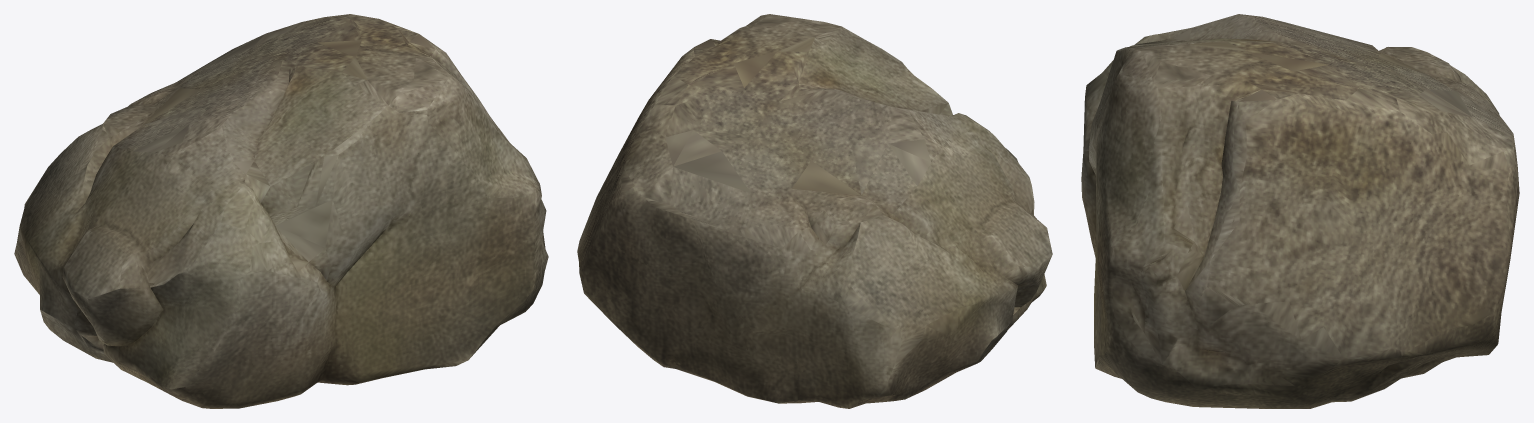
3 views of the same model, side by side, from view 1: azimuth 30°, elevation 25°; view 2: azimuth 150°, elevation 25°; view 3: azimuth 270°, elevation 25° (orthographic). The views are drawn at different scales.
Parts seen in each view (by area): view 1: valley-boulder.001; view 2: valley-boulder.001; view 3: valley-boulder.001.
Boxes of the visible parts, x1,y1,x2,y2 form: valley-boulder.001: (14, 14, 548, 408); valley-boulder.001: (577, 14, 1052, 408); valley-boulder.001: (1081, 14, 1519, 408).
Bounding box in the file's own units: 2.87 × 1.7 × 2.21.
Materials: 1 (1 with a texture image).
